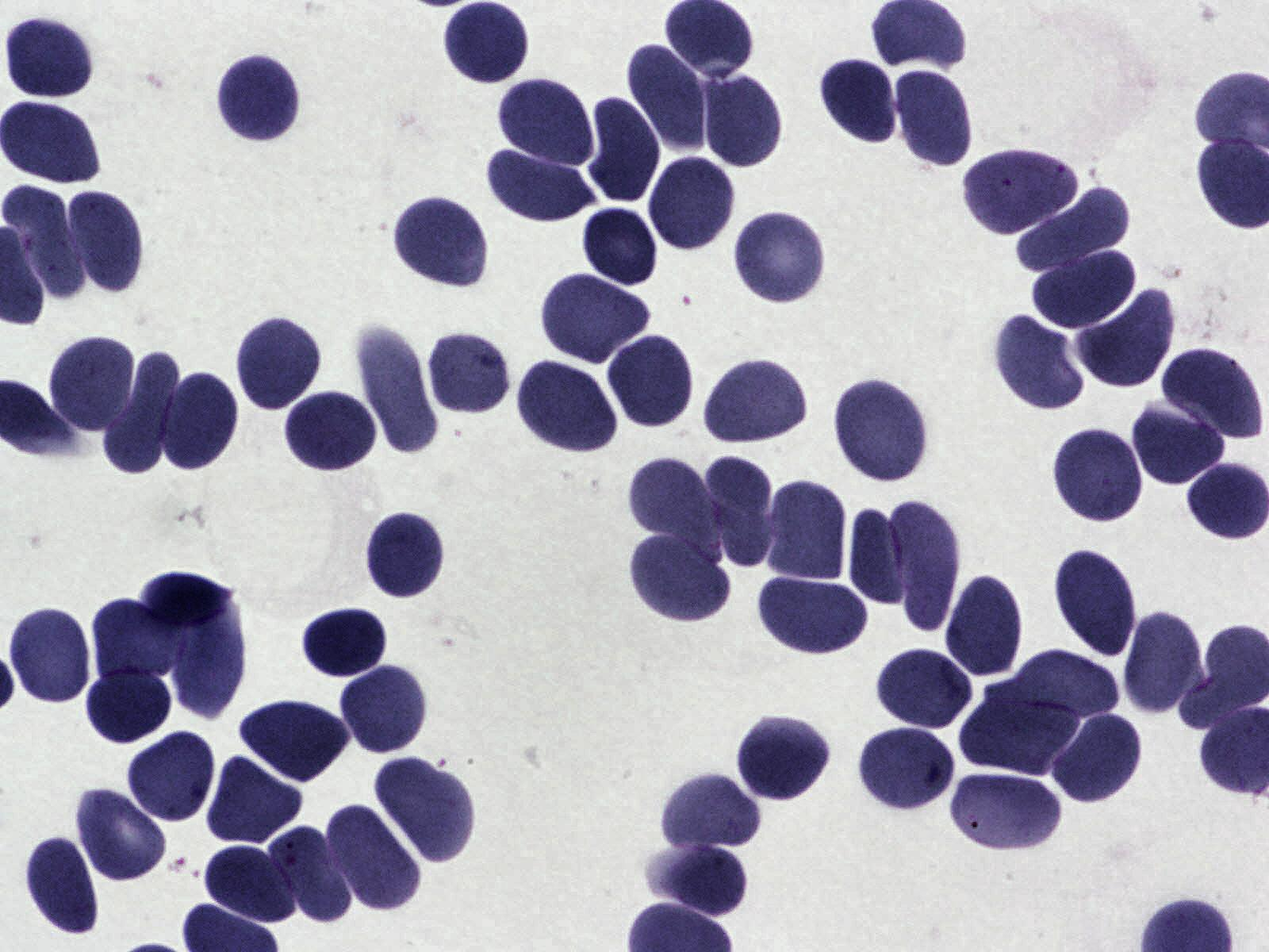Uninfected: (370, 762, 474, 861), (541, 274, 650, 368), (326, 803, 419, 911), (754, 574, 873, 658), (831, 381, 925, 486), (884, 496, 957, 630), (1054, 424, 1148, 528), (960, 151, 1077, 234), (1079, 288, 1176, 388), (1017, 188, 1129, 274), (1045, 708, 1144, 805), (629, 43, 717, 152), (105, 351, 182, 474), (243, 700, 354, 785), (630, 528, 730, 622), (361, 326, 436, 451), (733, 209, 829, 306), (1054, 547, 1137, 658), (647, 154, 738, 255), (763, 477, 845, 589), (231, 313, 323, 412), (486, 143, 595, 225), (517, 363, 616, 453), (1, 186, 80, 298), (1163, 350, 1259, 442), (965, 698, 1080, 774), (952, 770, 1062, 849), (980, 653, 1120, 715), (155, 370, 237, 474), (1125, 609, 1203, 718), (9, 605, 94, 705), (587, 96, 667, 202), (338, 662, 429, 755), (699, 71, 783, 171), (994, 316, 1084, 409), (631, 452, 719, 547), (892, 67, 972, 171), (735, 713, 830, 800), (706, 358, 805, 441), (655, 777, 760, 855), (860, 727, 957, 811), (78, 787, 165, 880), (499, 79, 595, 163), (166, 616, 243, 720), (216, 53, 302, 146), (362, 509, 448, 602), (704, 456, 775, 568), (1029, 250, 1135, 325), (397, 195, 487, 283), (93, 598, 186, 682), (947, 574, 1022, 678), (1129, 401, 1221, 485), (443, 0, 532, 86), (2, 10, 88, 98), (209, 753, 299, 837), (55, 335, 136, 428), (284, 392, 375, 474), (81, 670, 176, 748), (612, 340, 692, 432), (273, 830, 351, 924), (880, 651, 976, 727), (207, 848, 299, 926), (647, 845, 747, 916), (1186, 458, 1268, 544), (130, 732, 210, 820), (71, 190, 139, 289), (581, 205, 660, 289), (821, 59, 899, 144), (29, 839, 98, 935), (302, 607, 390, 681), (845, 505, 910, 605), (427, 333, 508, 412), (138, 572, 233, 636)
